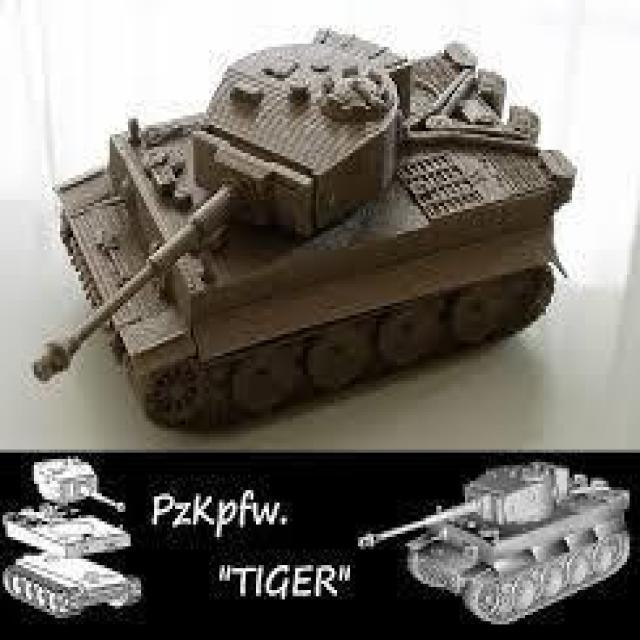MIL_MBT: (37, 31, 577, 403), (371, 473, 627, 607)
